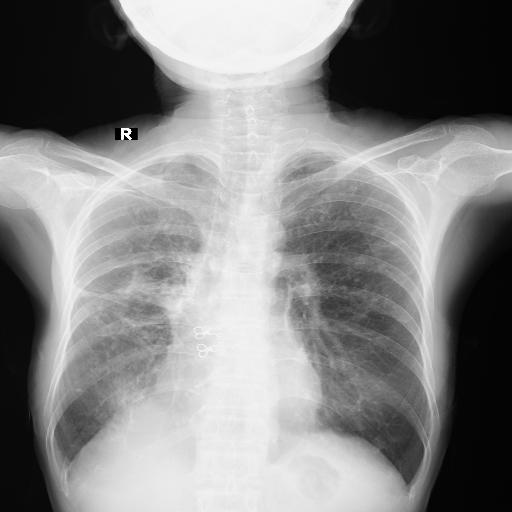ILD: (0, 0, 139, 287), (224, 50, 360, 268)
Infiltration: (0, 0, 139, 287)
Lung Opacity: (96, 240, 150, 288), (82, 337, 124, 385)
Pulmonary fibrosis: (17, 221, 126, 329), (44, 270, 102, 296)
